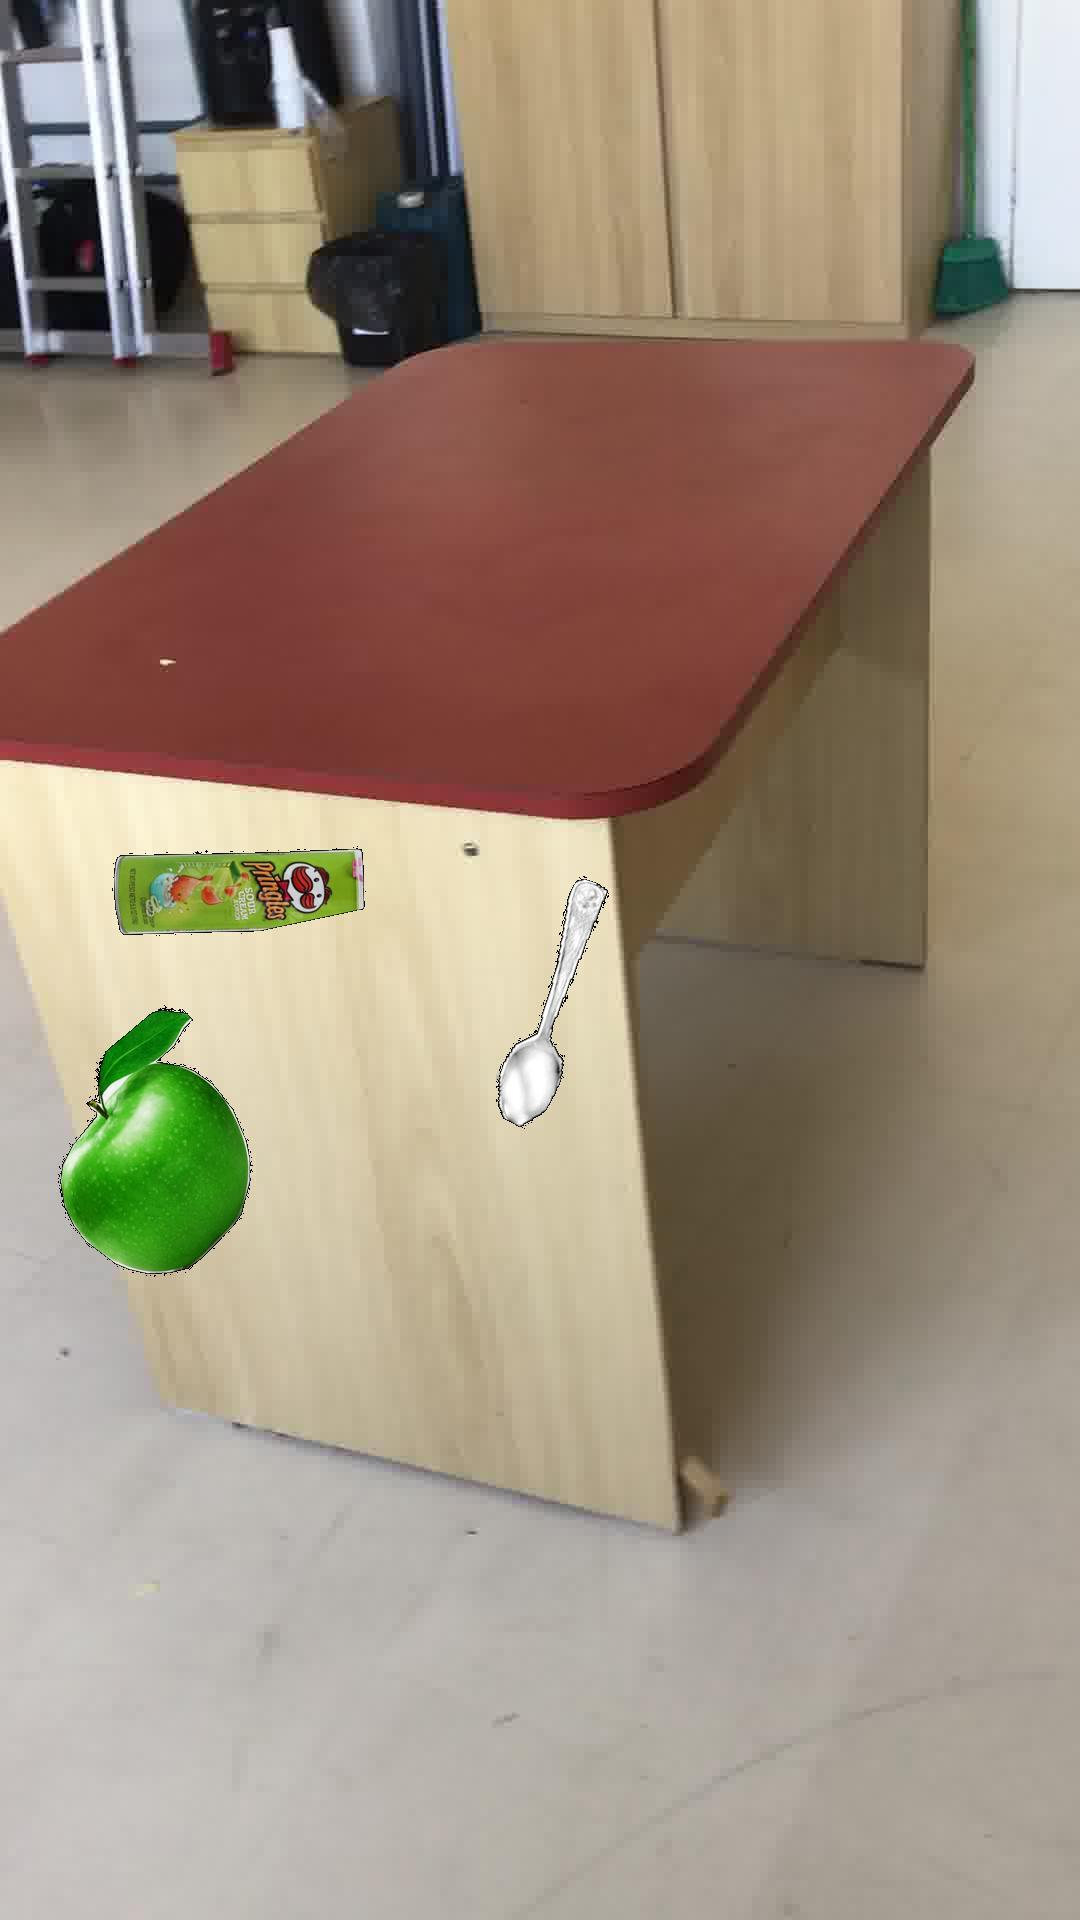green apple: (58, 1005, 252, 1274)
pringles: (112, 847, 364, 934)
spoon: (495, 877, 607, 1126)
